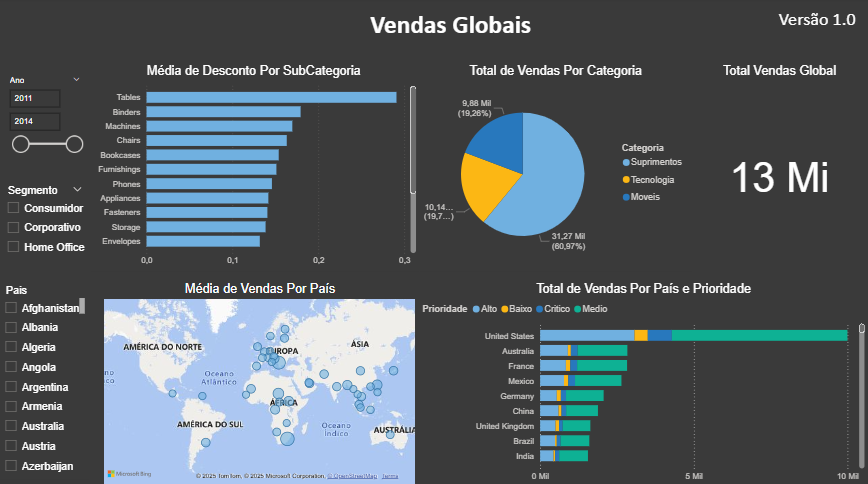

This screenshot's page, from the dashboard's own definition file:
{"tool":"powerbi","page":{"name":"Vendas Globais","canvas":[1280,720],"ordinal":0},"visuals":[{"type":"card","title":"Total Vendas Global","fields":{"Values":["Sum(dataset.Total_Vendas)"]},"box":[1019.8,97,260.1,305.6],"z":0},{"type":"pieChart","title":"Total de Vendas Por Categoria","fields":{"Category":["dataset.Categoria"],"Y":["CountNonNull(dataset.ID_Pedido)"]},"box":[621.4,97.1,398.8,306.2],"z":1000},{"type":"barChart","title":"Total de Vendas Por País e Prioridade","fields":{"Category":["dataset.Pais"],"Y":["CountNonNull(dataset.ID_Pedido)"],"Series":["dataset.Prioridade"]},"box":[620.1,417.3,659.8,302.7],"z":2000},{"type":"clusteredBarChart","title":"Média de Desconto Por SubCategoria","fields":{"Category":["dataset.SubCategoria"],"Y":["Avg(dataset.Desconto)"]},"box":[134.4,97.1,487,306.2],"z":3000},{"type":"map","title":"Média de Vendas Por País","fields":{"Category":["dataset.Pais"],"Size":["Avg(dataset.Total_Vendas)"]},"box":[152.8,417.3,467.3,302.7],"z":4000},{"type":"slicer","fields":{"Values":["dataset.Pais"]},"box":[0,416.8,134.4,291.3],"z":5000},{"type":"slicer","fields":{"Values":["dataset.Segmento"]},"box":[3,270.4,134.4,146.4],"z":6000},{"type":"slicer","fields":{"Values":["dataset.Data_Pedido.Variation.Hierarquia de datas.Ano"]},"box":[6,110.5,128.5,153.9],"z":7000},{"type":"textbox","box":[20.9,12,769.3,61.2],"z":8000},{"type":"textbox","box":[966.9,11.8,299.8,61.7],"z":9000}]}

Visuals, with their boxes in screenshot pixels (x1, y1, x2, y2), scaled from the page's 1280x720 canvas onto the 868x484 screenshot:
"Total Vendas Global" card: bbox(692, 65, 867, 271)
"Total de Vendas Por Categoria" pieChart: bbox(421, 65, 692, 271)
"Total de Vendas Por País e Prioridade" barChart: bbox(421, 281, 867, 483)
"Média de Desconto Por SubCategoria" clusteredBarChart: bbox(91, 65, 421, 271)
"Média de Vendas Por País" map: bbox(104, 281, 421, 483)
slicer - dataset.Pais: bbox(0, 280, 91, 476)
slicer - dataset.Segmento: bbox(2, 182, 93, 280)
slicer - dataset.Data_Pedido.Variation.Hierarquia de datas.Ano: bbox(4, 74, 91, 178)
textbox: bbox(14, 8, 536, 49)
textbox: bbox(656, 8, 859, 49)
